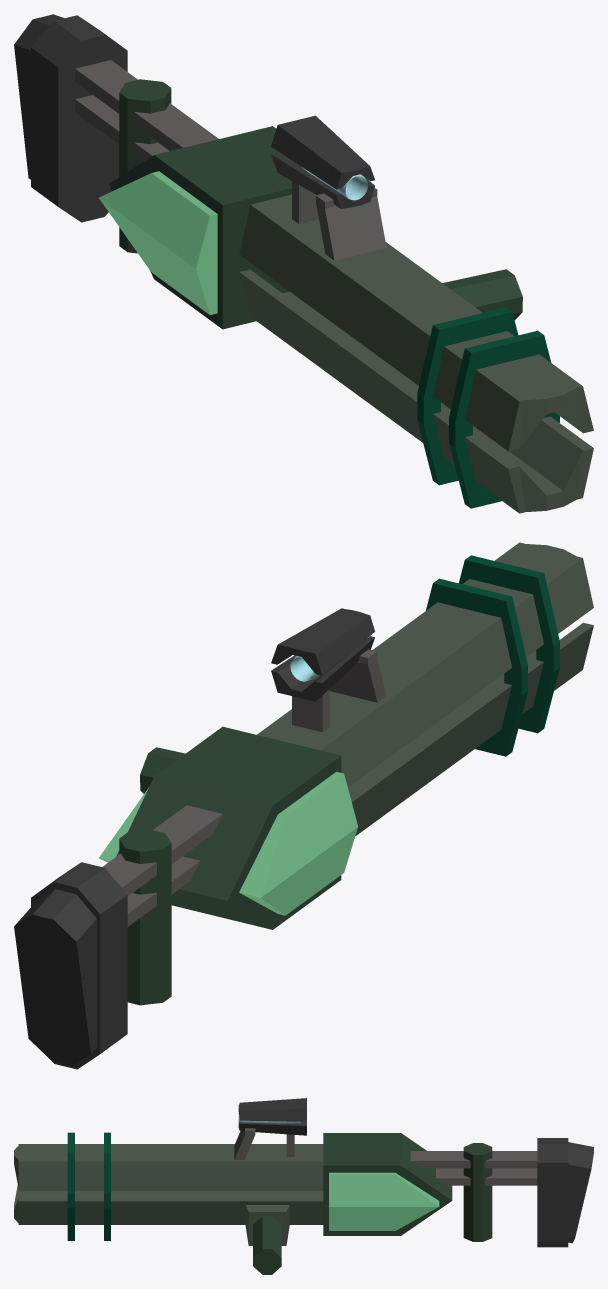
File: Weapon03-Lighter.fbx
3 views of the same model, one above another, from view 1: azimuth 30°, elevation 25°; view 2: azimuth 150°, elevation 25°; view 3: azimuth 270°, elevation 25° (orthographic). The views are drawn at different scales.
Visible parts, largest first — view 1: Cube.009; view 2: Cube.009; view 3: Cube.009.
Boxes of the visible parts, left/top/right/bottom form: Cube.009: left=14, top=14, right=593, bottom=513; Cube.009: left=14, top=542, right=593, bottom=1069; Cube.009: left=14, top=1098, right=593, bottom=1274.
Bounding box in the file's own units: 71.29 × 65.02 × 243.
